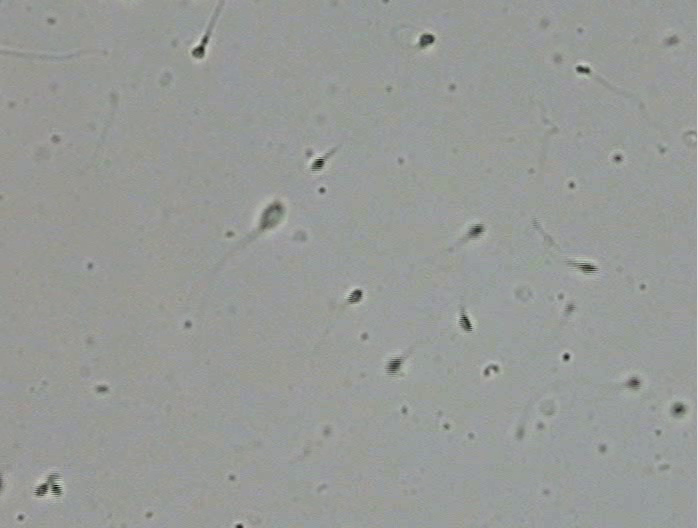S: (259, 202, 286, 229), (385, 358, 401, 375), (459, 314, 473, 332), (577, 262, 598, 274), (468, 224, 485, 238), (34, 482, 48, 497), (348, 289, 363, 303), (191, 45, 205, 59), (311, 157, 325, 171), (420, 33, 435, 46), (672, 403, 686, 416), (50, 483, 62, 497), (627, 377, 640, 389), (575, 65, 591, 74)
